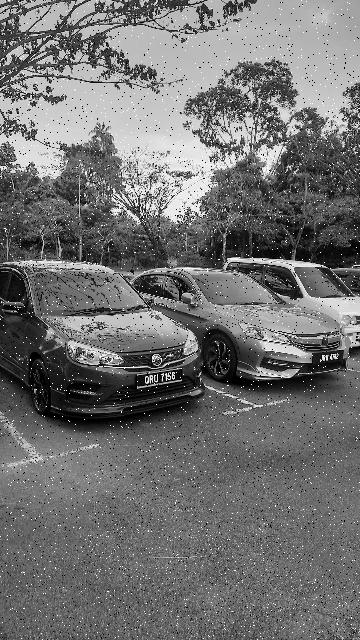License_Plate: (137, 369, 188, 388), (311, 351, 346, 365)
car: (1, 260, 207, 435), (141, 261, 360, 388)
